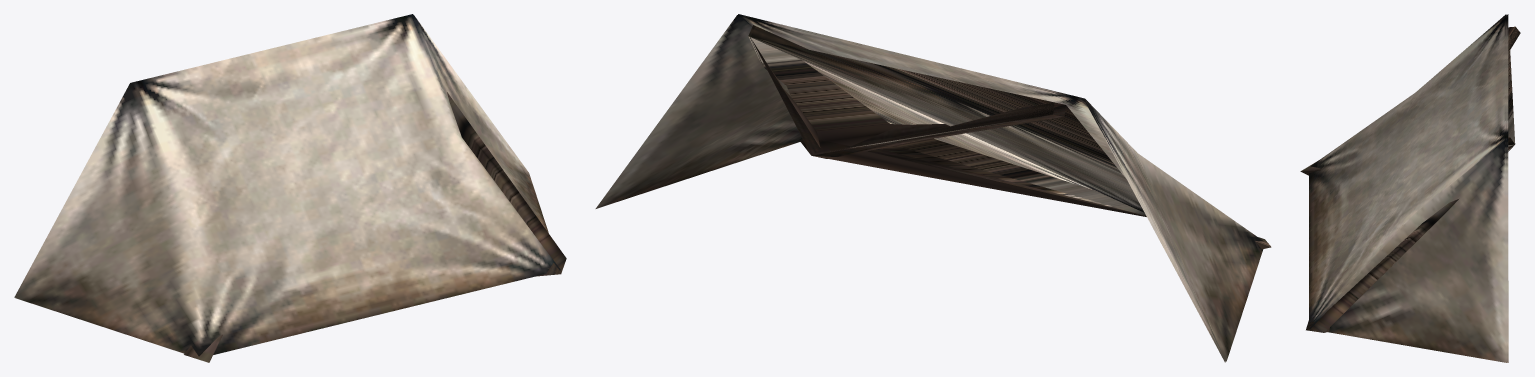
The model's file is stbuho54.dae.
The picture shows the model from 3 angles, left to right: view 1: azimuth 30°, elevation 25°; view 2: azimuth 150°, elevation 25°; view 3: azimuth 270°, elevation 25°; orthographic projection. The views are drawn at different scales.
Parts seen in each view (by area): view 1: tent2, stick21; view 2: tent2, stick21, topp; view 3: tent2, stick21.
Part boxes in pixels (x1=…): tent2: x1=14, y1=14, x2=560, y2=362; stick21: x1=447, y1=92, x2=566, y2=276; tent2: x1=595, y1=14, x2=1271, y2=362; stick21: x1=748, y1=36, x2=1145, y2=215; topp: x1=752, y1=40, x2=1146, y2=216; tent2: x1=1300, y1=14, x2=1520, y2=362; stick21: x1=1306, y1=27, x2=1515, y2=332.
Bounding box in the file's own units: 6.16 × 2.5 × 2.23.
1 material, 1 textured.
